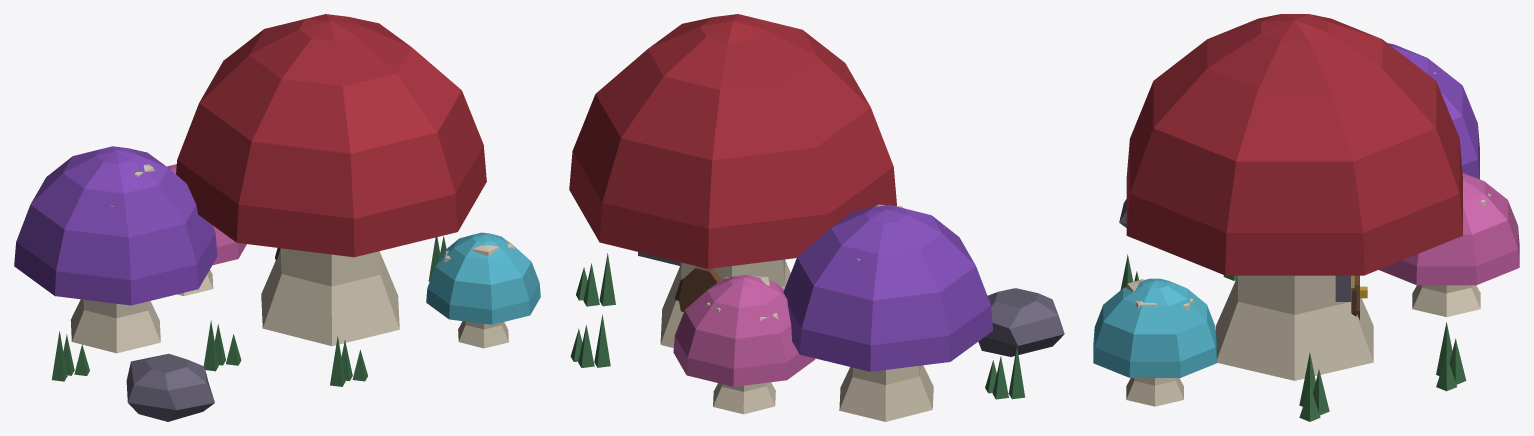
Rendered from Decor_WizardTower_Mushrooms.fbx.
3 renders of one model, left to right at view 1: azimuth 30°, elevation 25°; view 2: azimuth 150°, elevation 25°; view 3: azimuth 270°, elevation 25°, orthographic. The views are drawn at different scales.
Visible parts, largest first — view 1: Mushrooms_Body; view 2: Mushrooms_Body; view 3: Mushrooms_Body.
Boxes of the visible parts, <box> form: Mushrooms_Body: <box>14,14,540,421</box>; Mushrooms_Body: <box>569,14,1064,421</box>; Mushrooms_Body: <box>1093,14,1519,421</box>.
Size of the model in its own units: 18.2 by 12 by 14.3.
